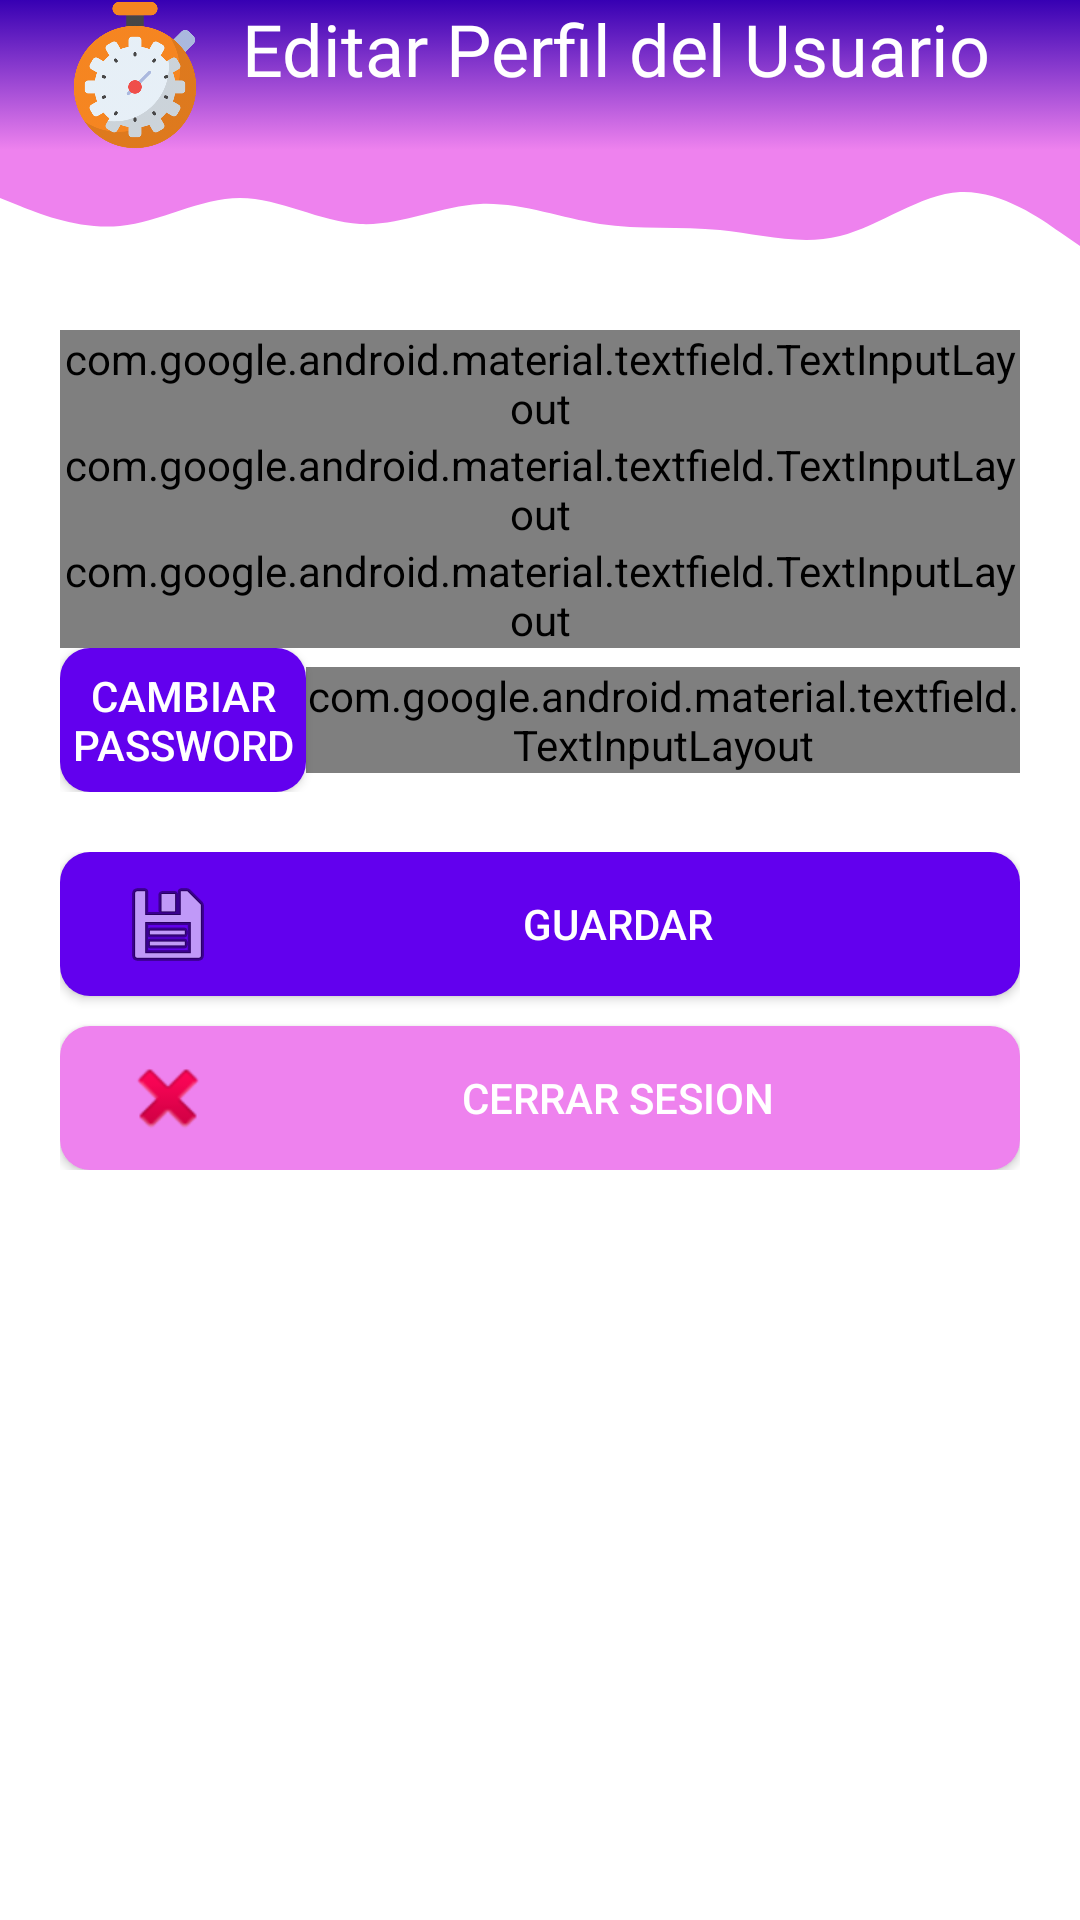

Screen size 1080×1920. Icon name, then its center in pixels as (x,y):
cronometro: (135,75)
